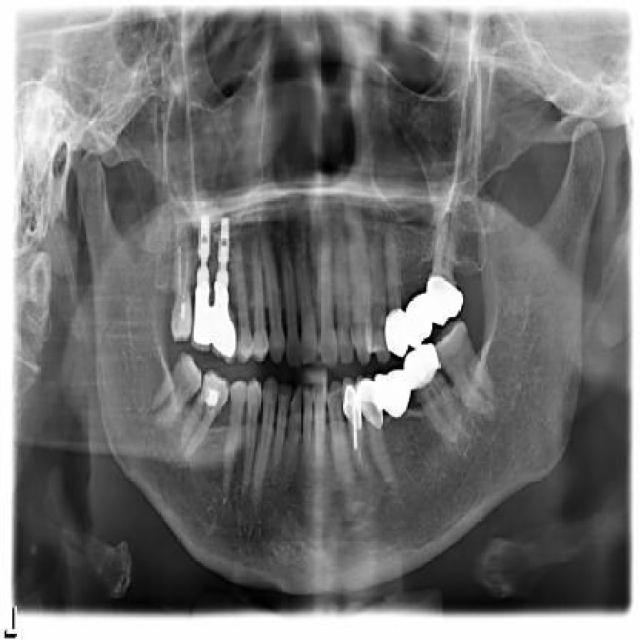dolgu: (195, 374, 232, 413)
implant: (189, 203, 241, 354)
kanal-tedavisi: (172, 244, 192, 300), (348, 422, 367, 478)
kaplama: (428, 264, 473, 334), (399, 338, 444, 397), (378, 301, 414, 363), (362, 376, 382, 429), (344, 378, 360, 431)
kopru: (387, 265, 459, 354), (372, 347, 440, 433)
